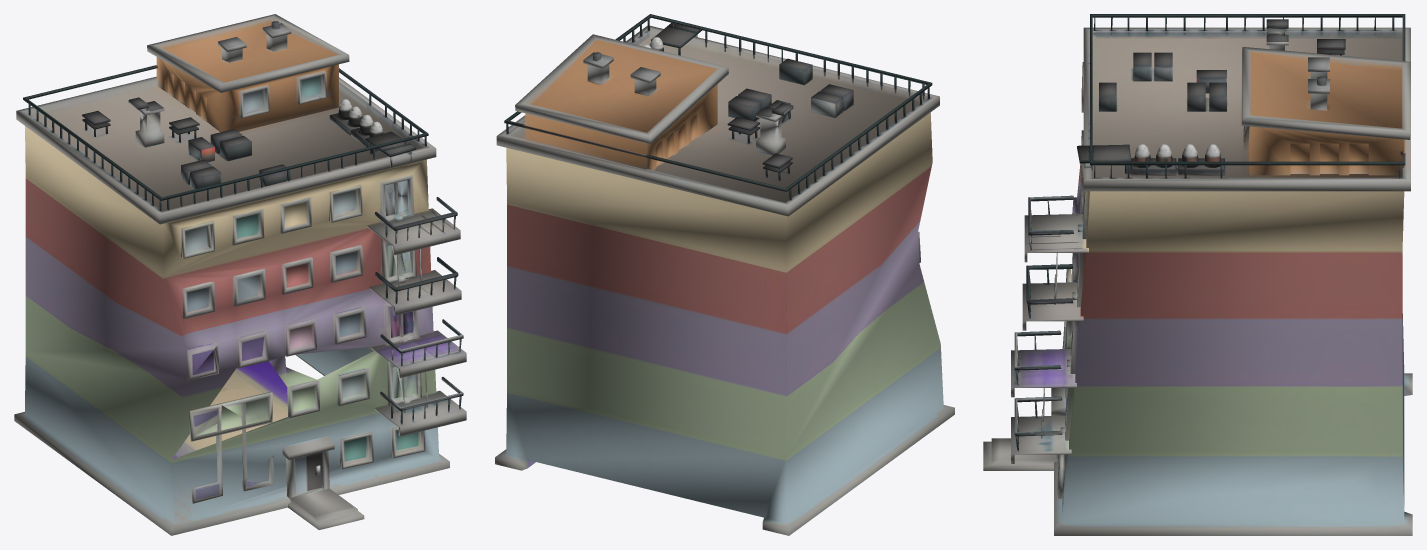
The model's file is selected.glb.
3 renders of one model, left to right at view 1: azimuth 30°, elevation 25°; view 2: azimuth 150°, elevation 25°; view 3: azimuth 270°, elevation 25°, orthographic. The views are drawn at different scales.
Parts seen in each view (by area): view 1: tripo_node_a30f5f82-3b3b-4b3a-a316-21f977067c69; view 2: tripo_node_a30f5f82-3b3b-4b3a-a316-21f977067c69; view 3: tripo_node_a30f5f82-3b3b-4b3a-a316-21f977067c69.
Part boxes in pixels (box(x1,y1,x2,y2)): tripo_node_a30f5f82-3b3b-4b3a-a316-21f977067c69: box(14, 14, 466, 535); tripo_node_a30f5f82-3b3b-4b3a-a316-21f977067c69: box(495, 14, 954, 535); tripo_node_a30f5f82-3b3b-4b3a-a316-21f977067c69: box(983, 14, 1412, 535).
Bounding box in the file's own units: 0.7793 × 0.998 × 0.9121.
Materials: 1 (1 with a texture image).
